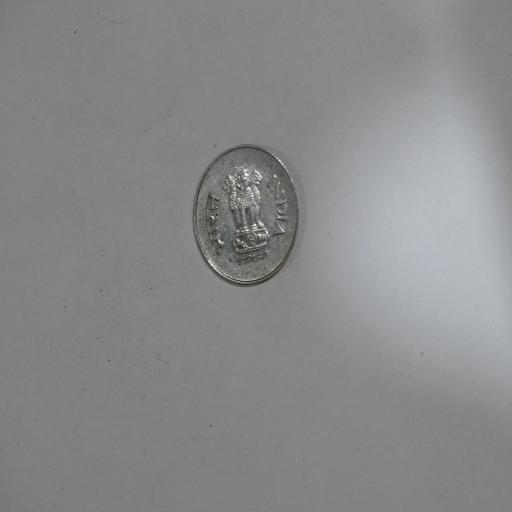rupee1: (191, 144, 301, 286)
